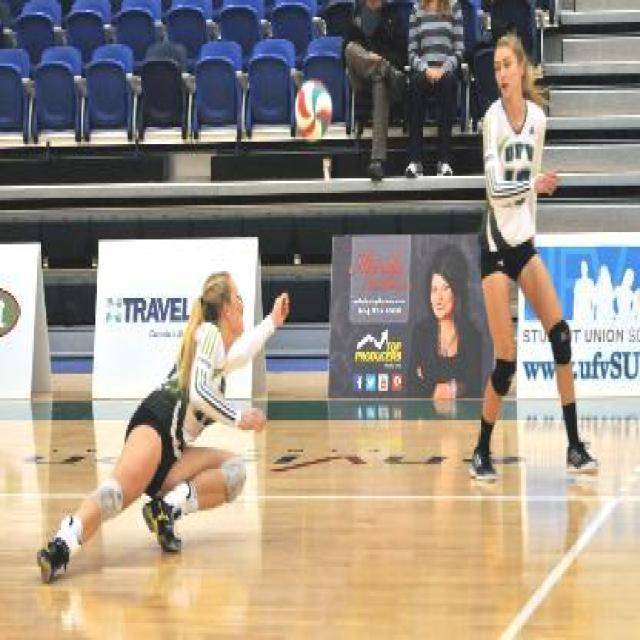volleyball: (294, 80, 334, 141)
